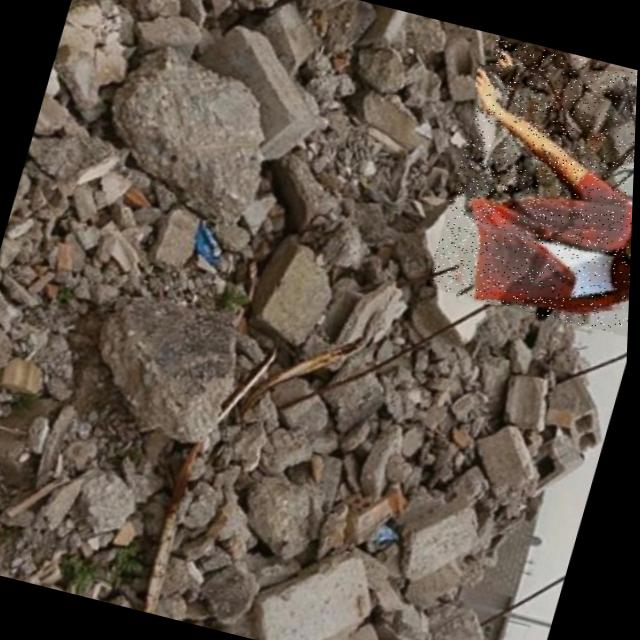Person in Rubble: (425, 37, 639, 338)
